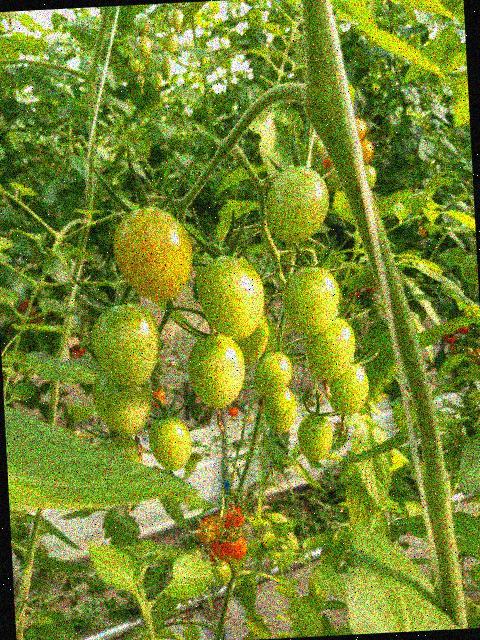l_fully_ripened: (225, 533, 248, 560), (208, 539, 229, 563)
l_green: (195, 254, 267, 342), (91, 301, 162, 389), (264, 163, 332, 246), (186, 333, 247, 411), (280, 265, 342, 337), (91, 367, 154, 437), (304, 315, 357, 381), (147, 414, 194, 473), (323, 361, 370, 418), (193, 244, 248, 289), (233, 313, 271, 366), (296, 411, 335, 462), (252, 350, 294, 397), (261, 385, 298, 434), (97, 432, 143, 467), (213, 560, 232, 585)
l_half_ripened: (111, 205, 197, 305), (196, 521, 217, 545)
